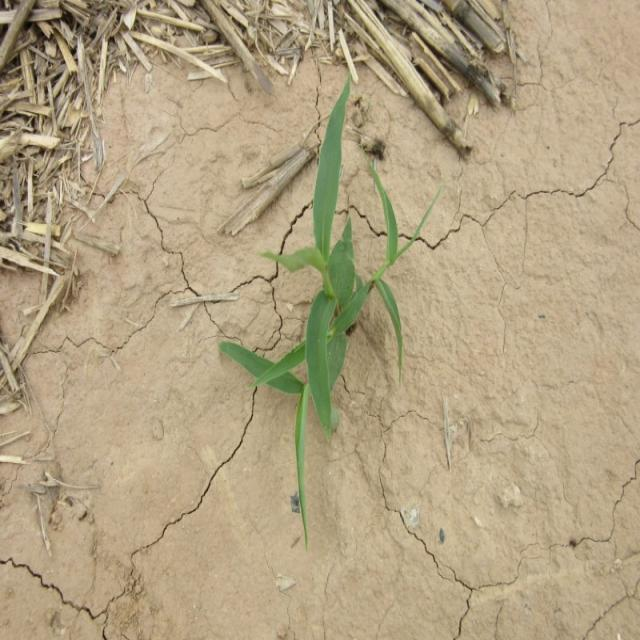bg: (219, 84, 417, 554)
